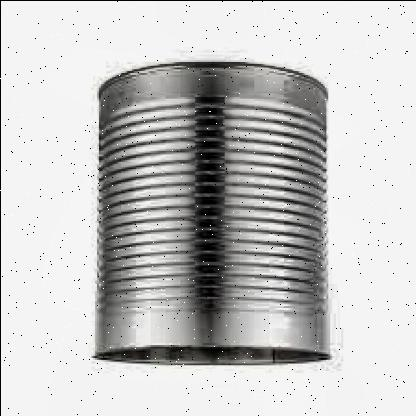Can: (76, 51, 346, 375)
